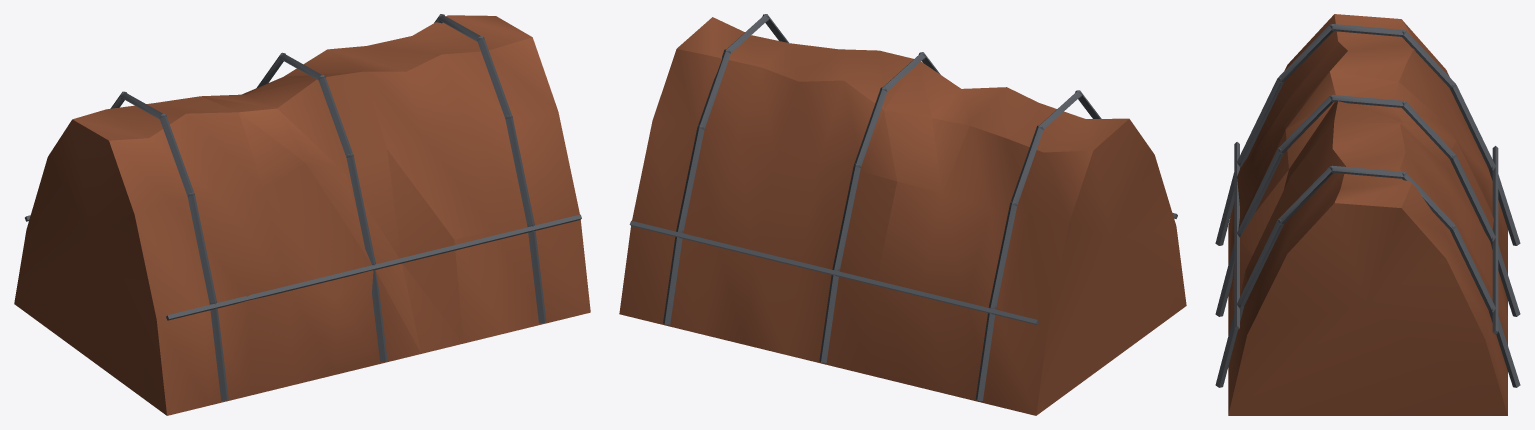
Rendered from regolith_berm.glb.
3 views of the same model, side by side, from view 1: azimuth 30°, elevation 25°; view 2: azimuth 150°, elevation 25°; view 3: azimuth 270°, elevation 25° (orthographic). The views are drawn at different scales.
Parts seen in each view (by area): view 1: body; view 2: body; view 3: body.
Boxes of the visible parts, box(x1,y1,x2,y2) form: body: box(14, 14, 590, 415); body: box(619, 14, 1186, 415); body: box(1215, 14, 1520, 415).
Size of the model in its own units: 4 by 2.24 by 2.73.
